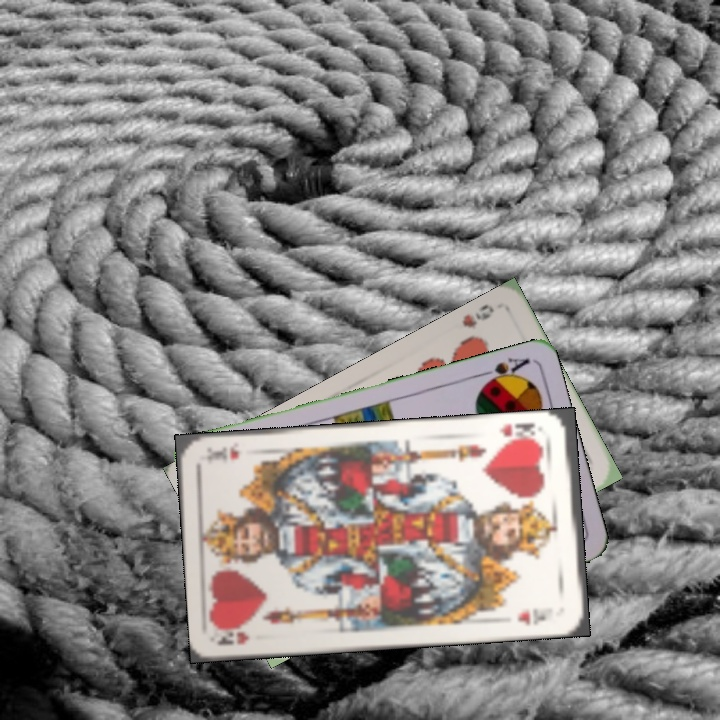H9: (458, 300, 497, 332)
HK: (495, 418, 542, 446), (213, 624, 251, 648)
SA: (474, 353, 532, 389)
